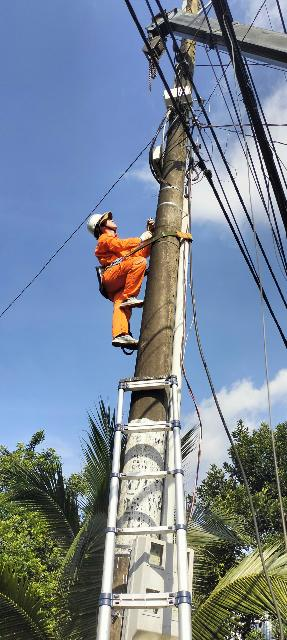gloves: (139, 230, 154, 244), (143, 218, 158, 232)
harness: (97, 253, 141, 271)
helmet: (85, 212, 110, 235)
shoes: (111, 330, 144, 352), (118, 296, 149, 311)
